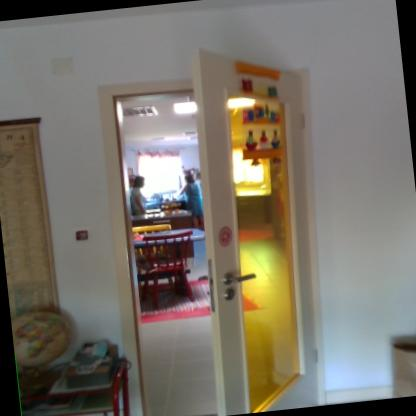semi: (87, 47, 340, 415)
